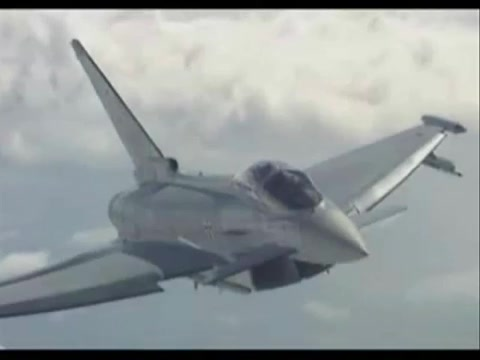aeroplane: (1, 39, 467, 322)
